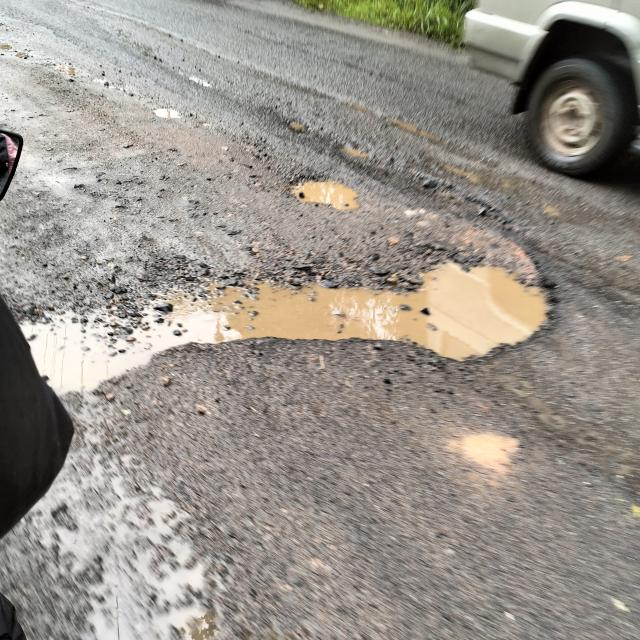pothole: (62, 250, 595, 394), (433, 419, 542, 497), (293, 170, 368, 226), (348, 97, 444, 139), (34, 51, 114, 93), (324, 123, 388, 168), (442, 160, 489, 192), (536, 198, 570, 229), (283, 115, 323, 141), (145, 101, 195, 121), (0, 32, 29, 64), (608, 593, 636, 622), (628, 501, 638, 524)
